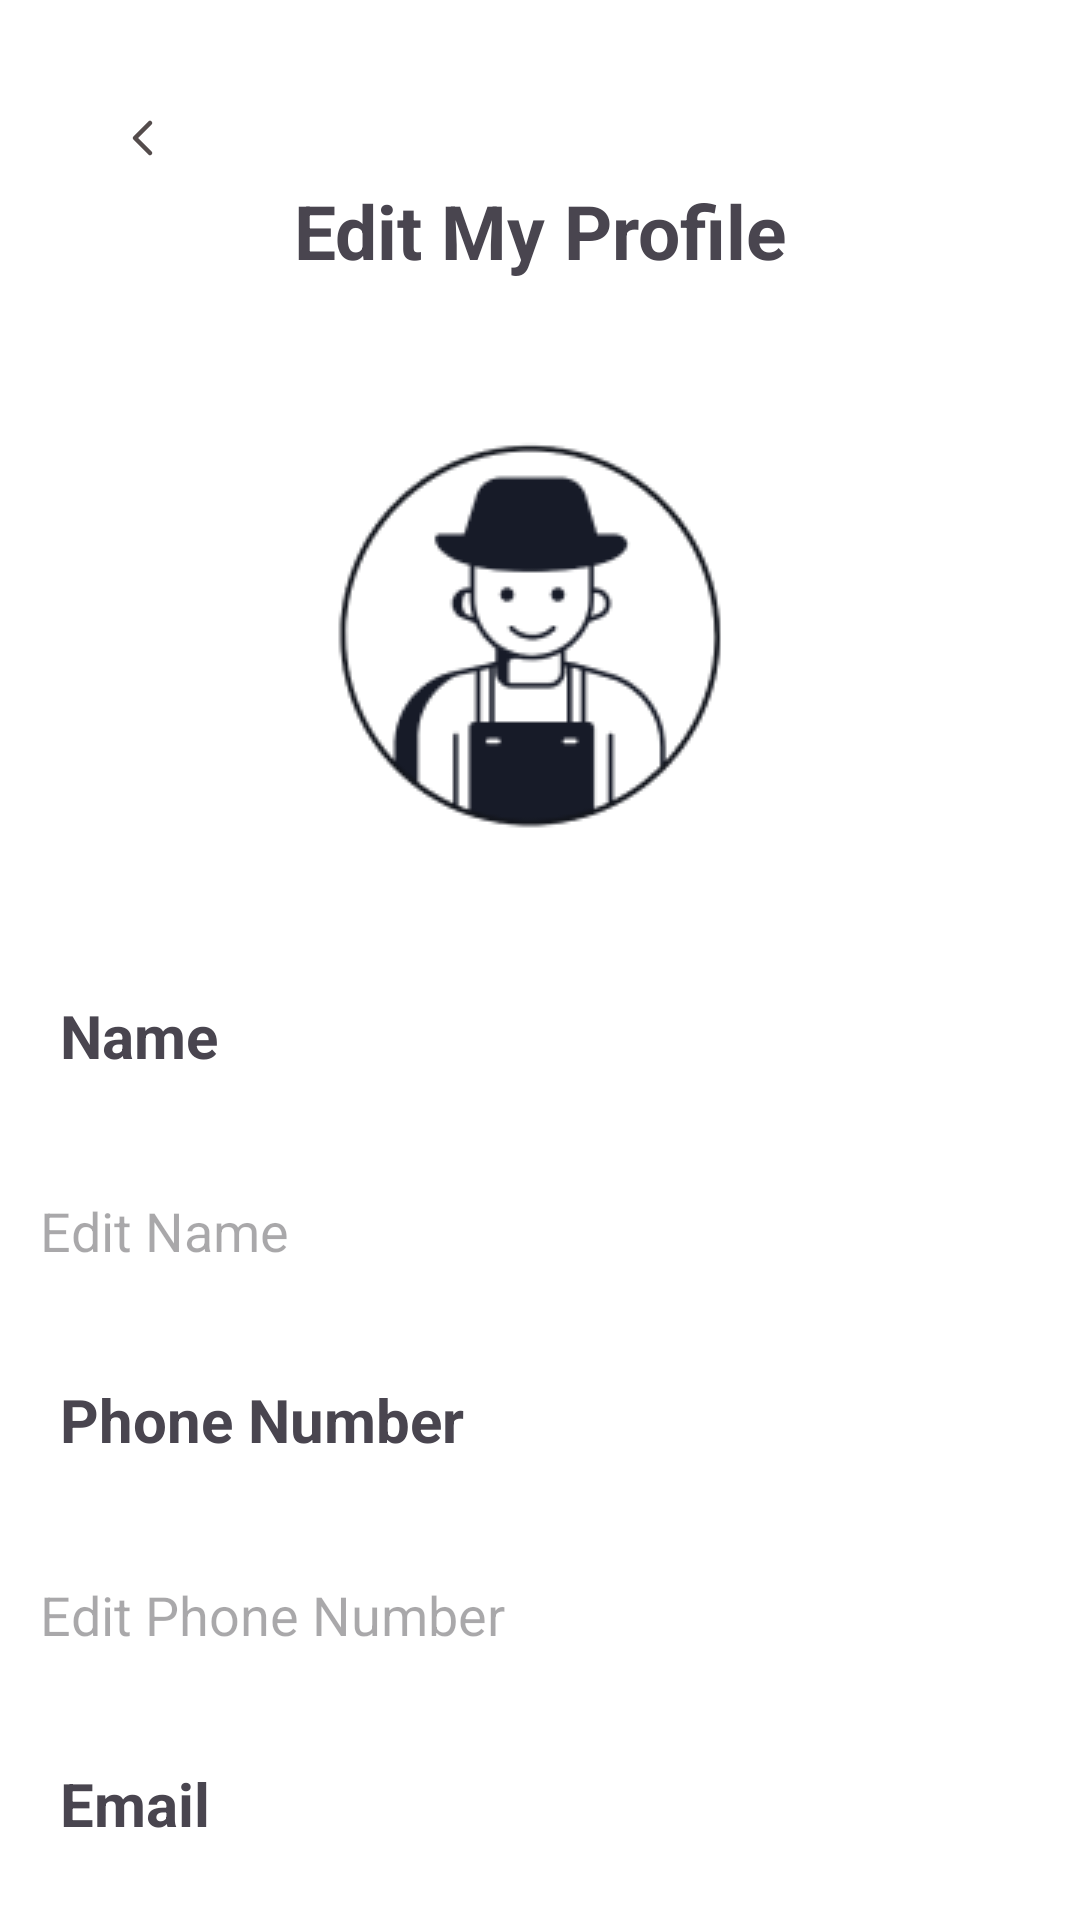

Where icons sit on this 1080w x 1920h app screen, as detection(x1, y1, x2, y2):
leftdirect: detection(133, 120, 152, 156)
